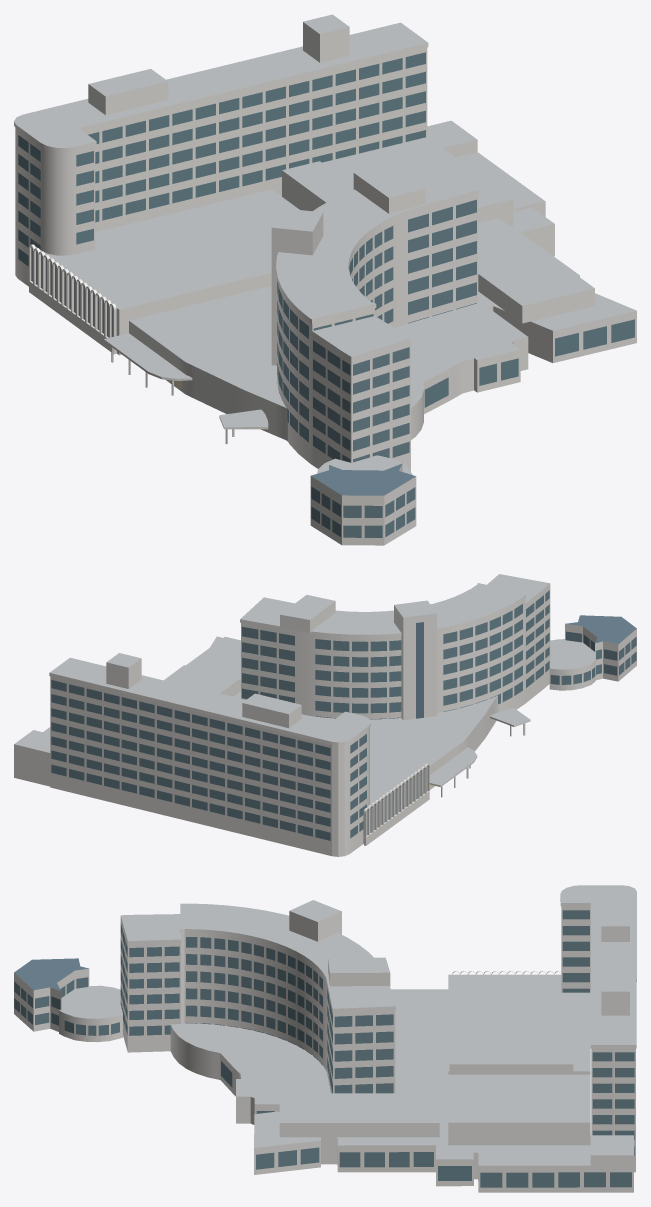
The model's file is mia-fontainebleau.glb.
3 views of the same model, one above another, from view 1: azimuth 30°, elevation 25°; view 2: azimuth 150°, elevation 25°; view 3: azimuth 270°, elevation 25° (orthographic). The views are drawn at different scales.
Parts seen in each view (by area): view 1: Fontainebleau Miami Beach; view 2: Fontainebleau Miami Beach; view 3: Fontainebleau Miami Beach.
Part boxes in pixels (x1,y1,x2,y2): Fontainebleau Miami Beach: (14,14,636,545); Fontainebleau Miami Beach: (14,574,636,856); Fontainebleau Miami Beach: (14,885,636,1192).
Size of the model in its own units: 160 by 58.5 by 218.
